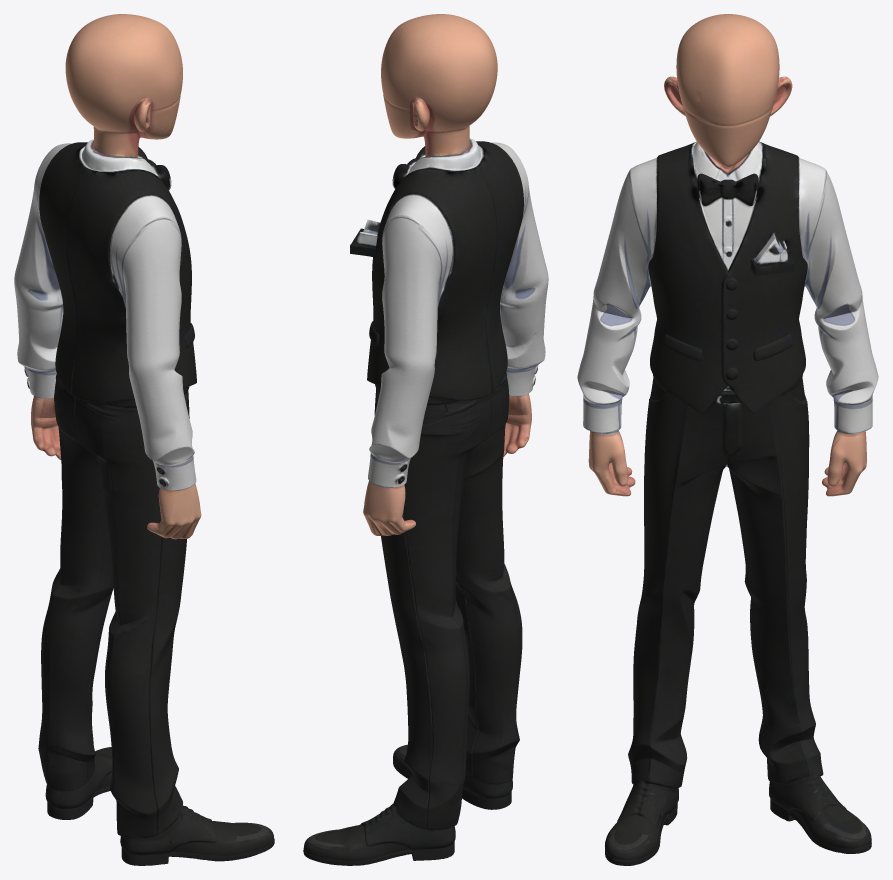
File: formal+tuxedo+3d+model.glb
The picture shows the model from 3 angles, left to right: view 1: azimuth 30°, elevation 25°; view 2: azimuth 150°, elevation 25°; view 3: azimuth 270°, elevation 25°; orthographic projection.
Parts seen in each view (by area): view 1: tripo_node_cd1a2d1d-136b-4da8-8dee-e08f5039c6e9; view 2: tripo_node_cd1a2d1d-136b-4da8-8dee-e08f5039c6e9; view 3: tripo_node_cd1a2d1d-136b-4da8-8dee-e08f5039c6e9.
Boxes of the visible parts, x1,y1,x2,y2 form: tripo_node_cd1a2d1d-136b-4da8-8dee-e08f5039c6e9: (14, 14, 274, 865); tripo_node_cd1a2d1d-136b-4da8-8dee-e08f5039c6e9: (303, 14, 548, 865); tripo_node_cd1a2d1d-136b-4da8-8dee-e08f5039c6e9: (577, 14, 878, 865).
Size of the model in its own units: 0.1996 by 1 by 0.341.
1 material, 1 textured.
